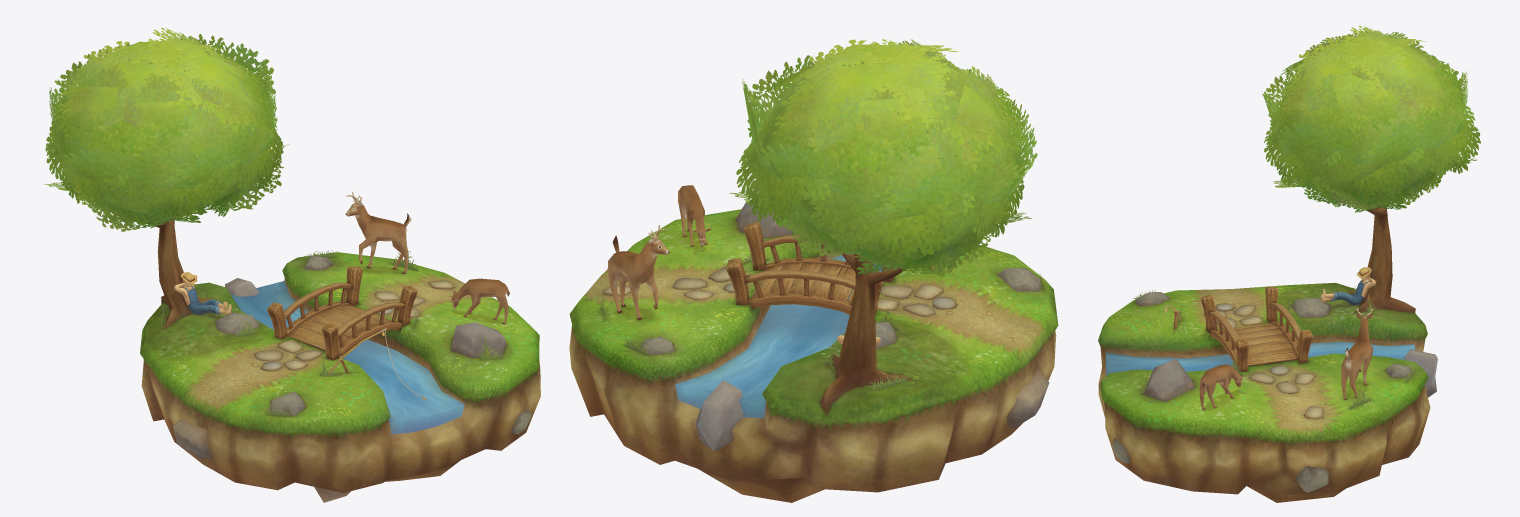
Rendered from stronghold.glb.
The picture shows the model from 3 angles, left to right: view 1: azimuth 30°, elevation 25°; view 2: azimuth 150°, elevation 25°; view 3: azimuth 270°, elevation 25°; orthographic projection. The views are drawn at different scales.
Visible parts, largest first — view 1: Object_2, Object_3; view 2: Object_2, Object_3; view 3: Object_2, Object_3.
Part boxes in pixels (<box>): Object_2: <box>140,192,540,502</box>; Object_3: <box>44,27,503,416</box>; Object_2: <box>569,185,1058,502</box>; Object_3: <box>600,39,1045,390</box>; Object_2: <box>1098,203,1437,502</box>; Object_3: <box>1133,25,1480,409</box>.
Size of the model in its own units: 7.06 by 6.98 by 6.62.
2 materials, 2 textured.
